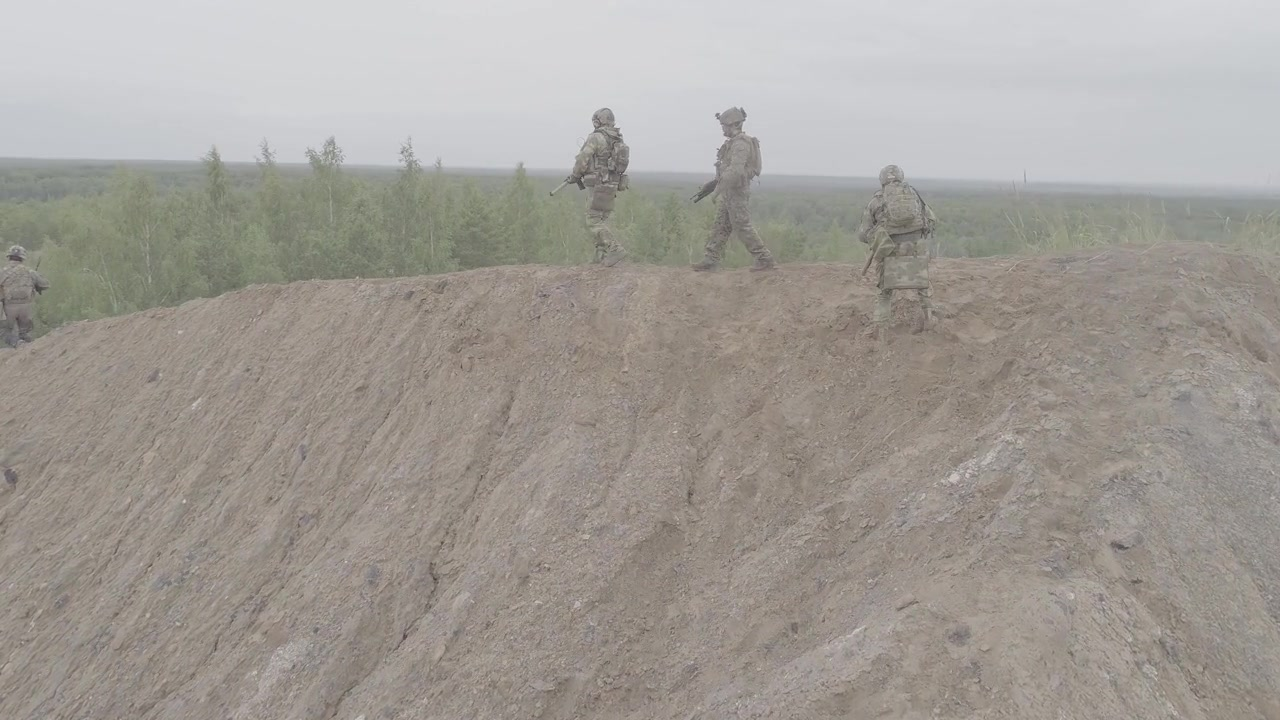person: (834, 173, 972, 344), (694, 103, 767, 271), (563, 105, 633, 264), (0, 245, 54, 349)
